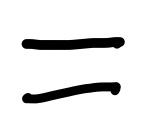eqv: (22, 37, 125, 104)
